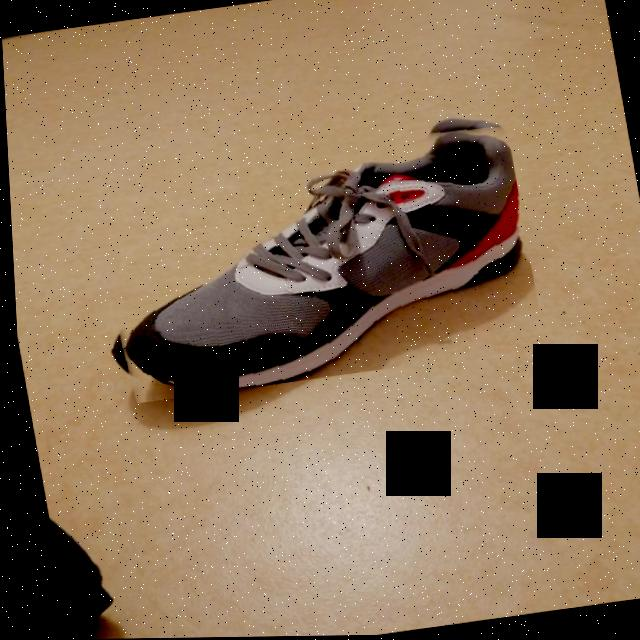shoe: (73, 111, 543, 406)
